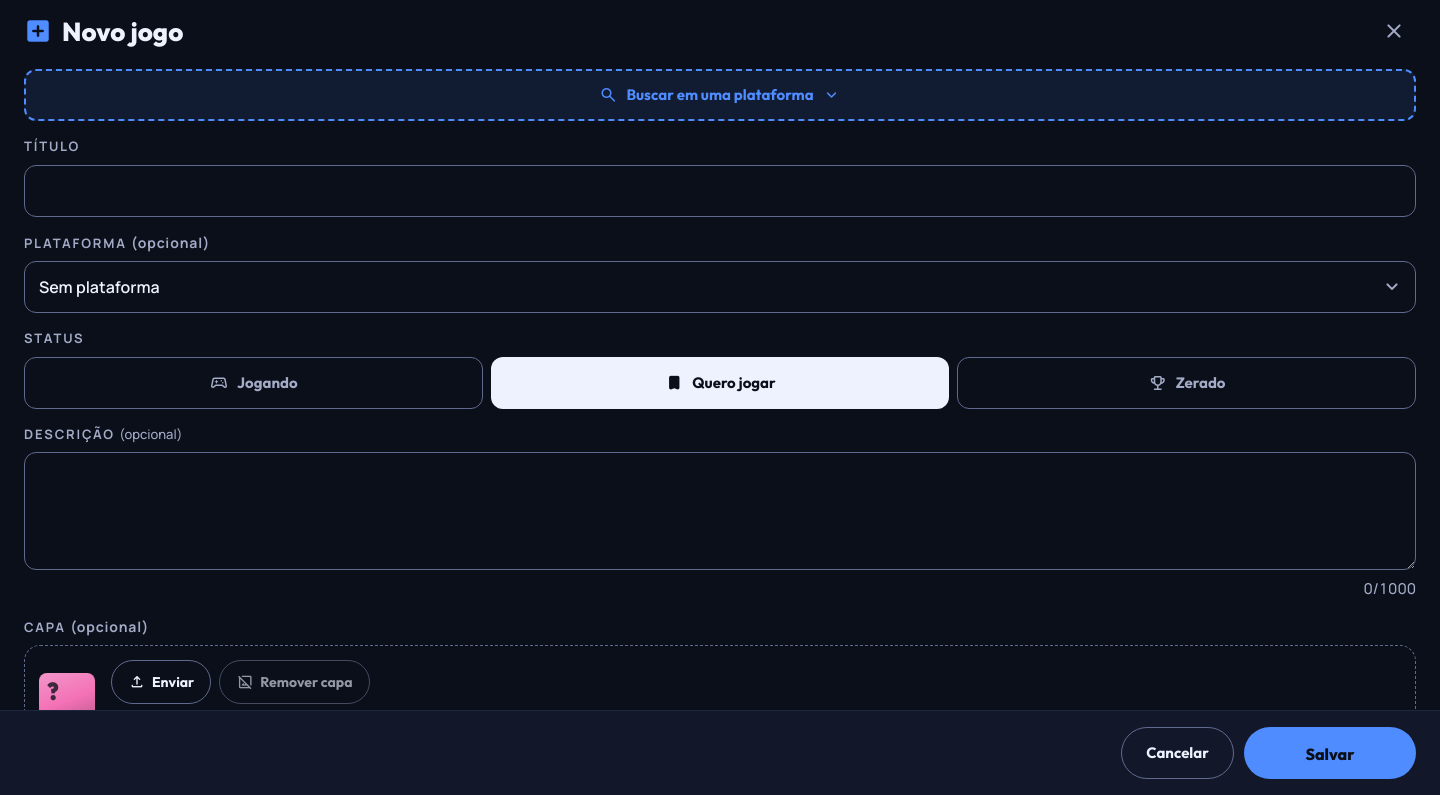
Scenario: GameForm — Buscar na Steam e Buscar na PlayStation (CA-32 a CA-36) › "Criar jogo" de um item PS5 preenche a plataforma PS5 (editável), o status pelas horas, e o cartão "Ligado à PlayStation"
Click the button "Buscar em uma plataforma" at (720, 95), box [24,69,1416,121]
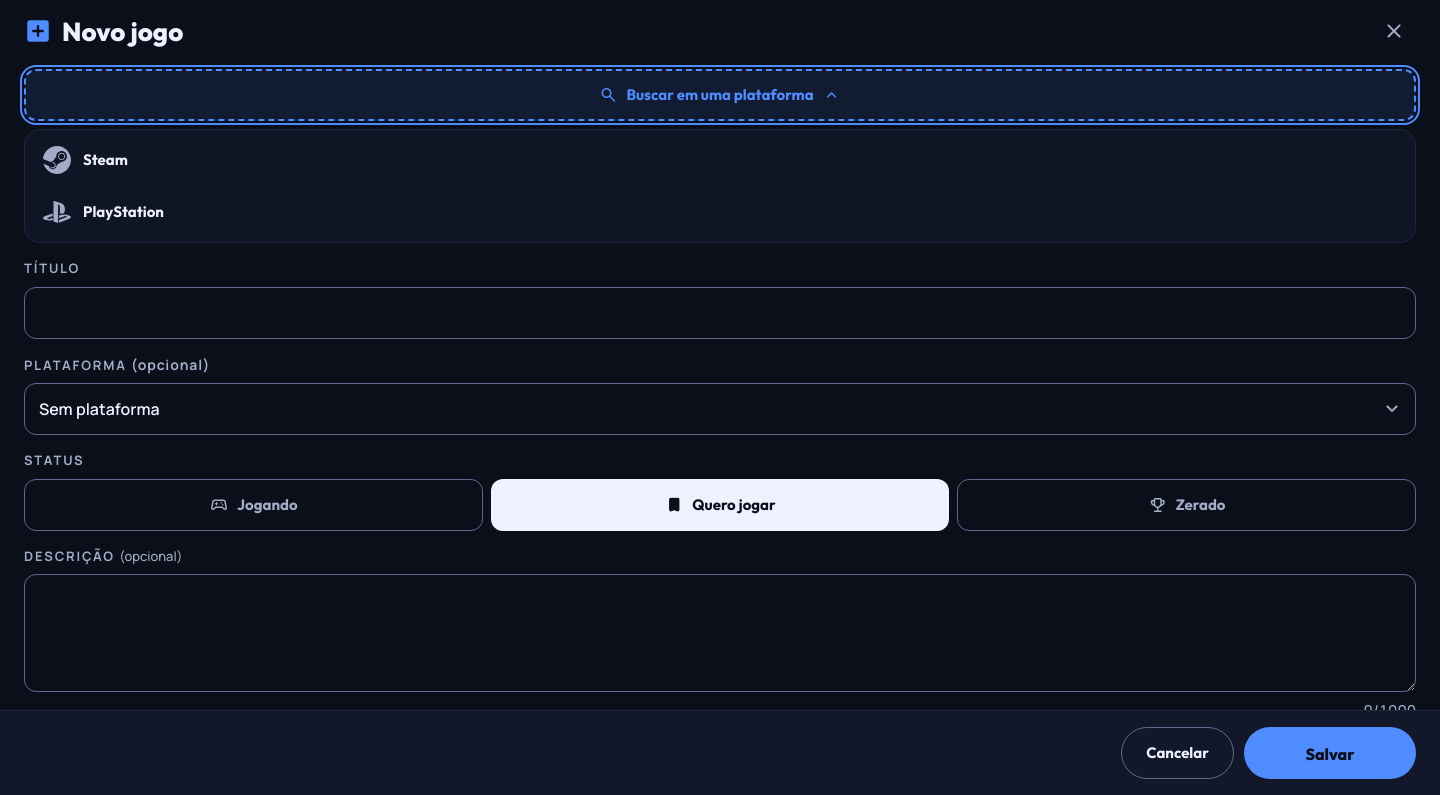
Click the menu item "PlayStation" at (123, 211), box [31,188,1409,236]
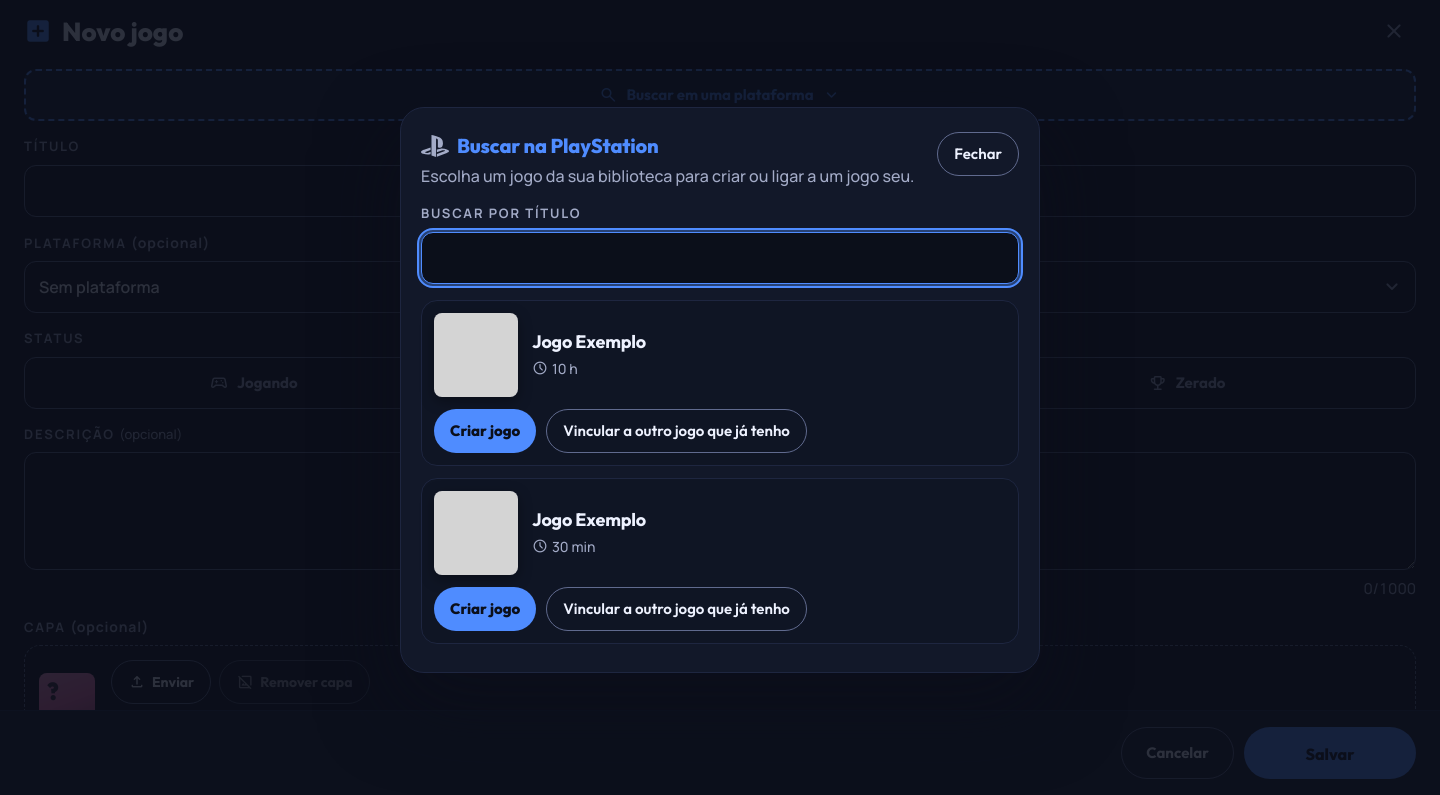
Click the button with aria-label "Criar jogo: Jogo Exemplo" at (485, 431), box [434,409,536,453]
(page scrolled)
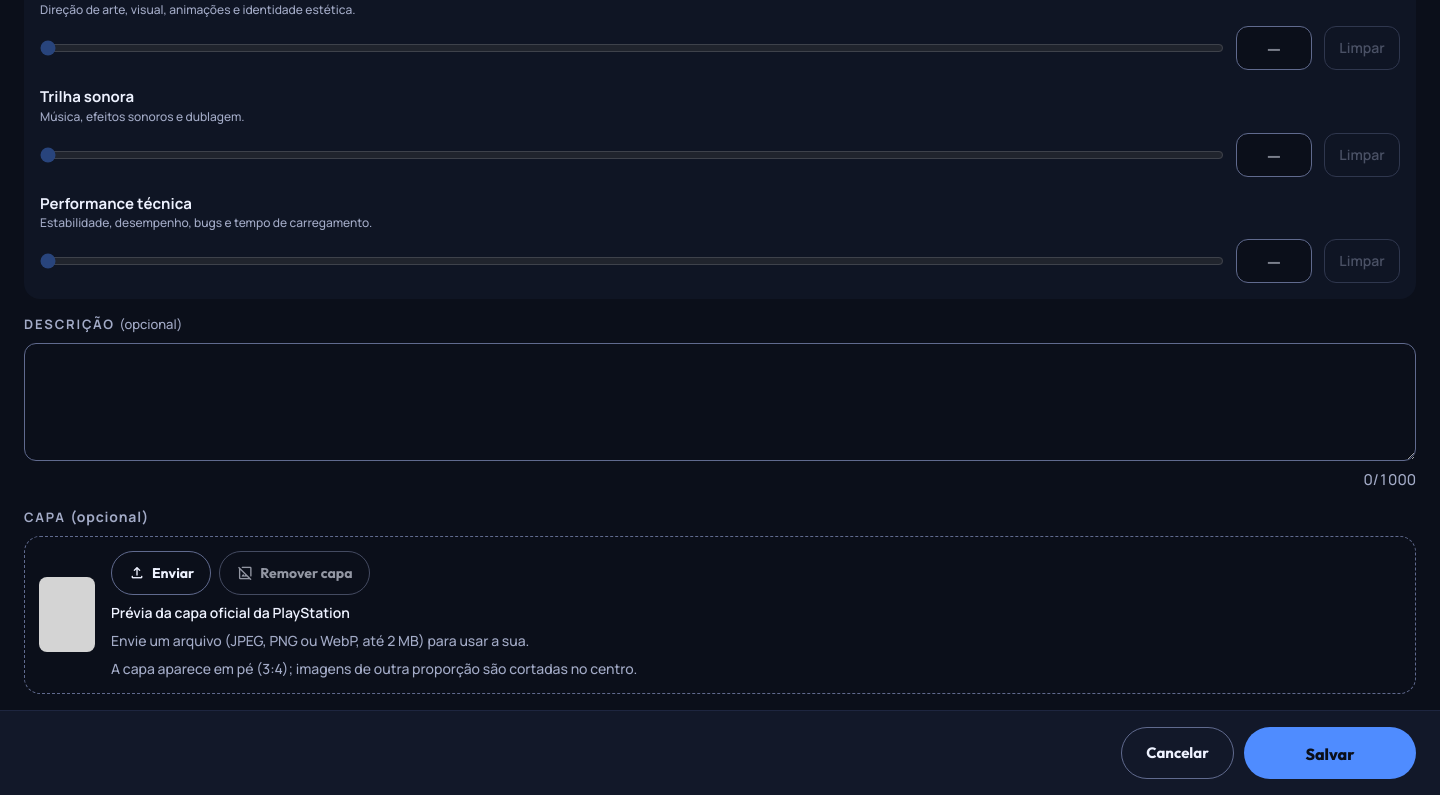
Expected: the text "Prévia da capa oficial da PlayStation" is shown, [111,602,350,622]
